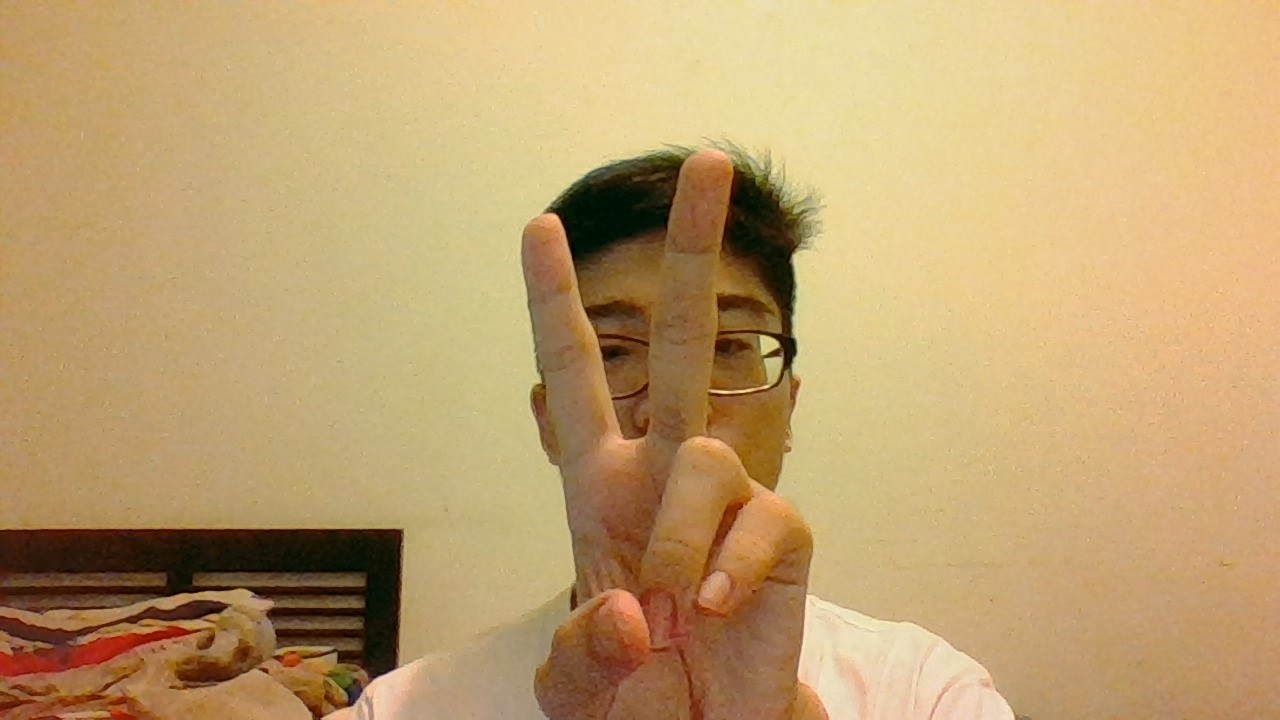Thanks: (512, 146, 806, 720)
